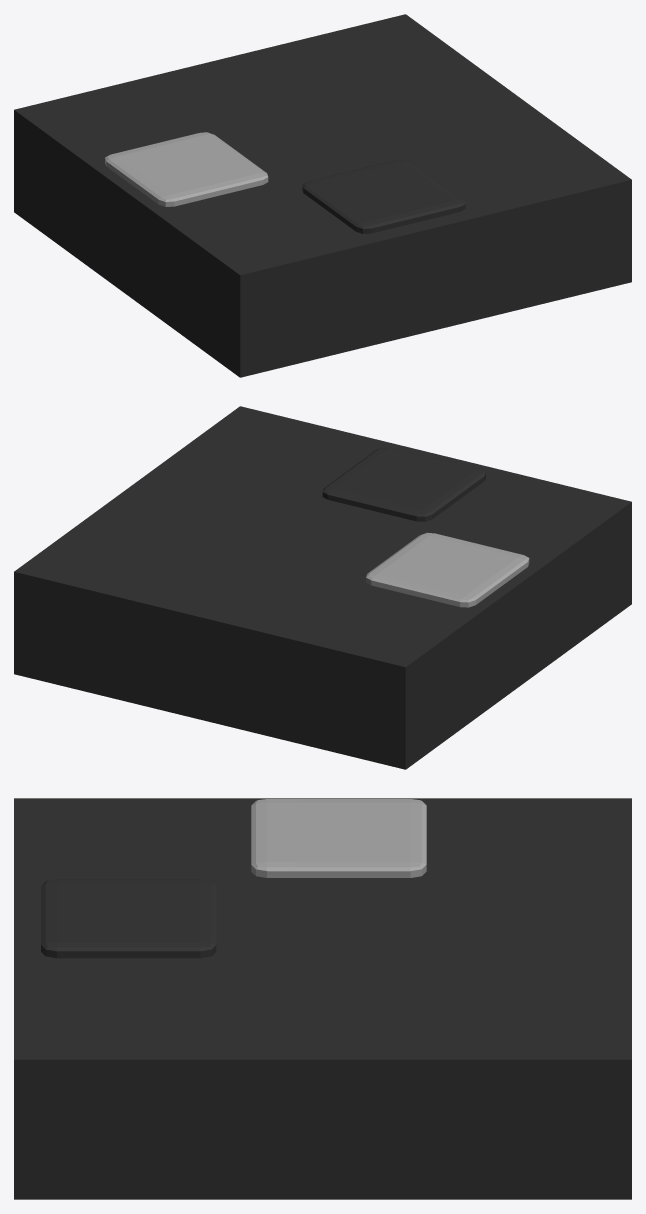
File: reskined-floor1.fbx
The picture shows the model from 3 angles, top to bottom: view 1: azimuth 30°, elevation 25°; view 2: azimuth 150°, elevation 25°; view 3: azimuth 270°, elevation 25°; orthographic projection. The views are drawn at different scales.
Parts seen in each view (by area): view 1: floor_t1; view 2: floor_t1; view 3: floor_t1.
Boxes of the visible parts, <box> form: floor_t1: <box>14,14,631,377</box>; floor_t1: <box>14,406,631,769</box>; floor_t1: <box>14,798,631,1199</box>.
Bounding box in the file's own units: 400 × 107 × 400.
